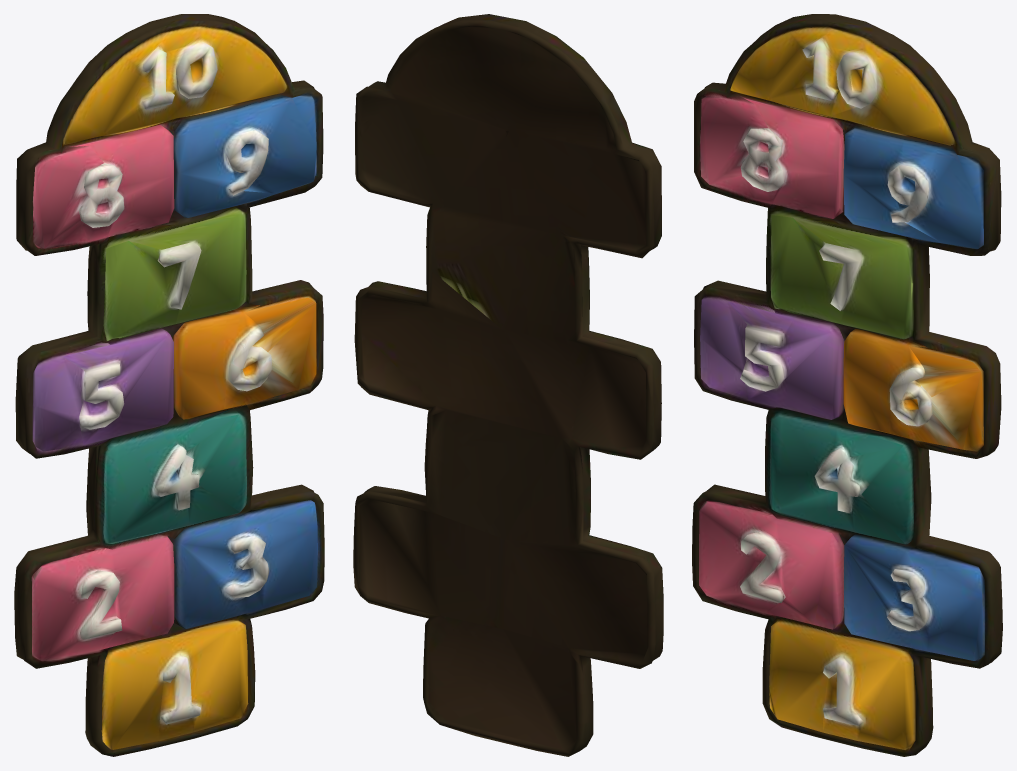
File: hopscotch.glb
The picture shows the model from 3 angles, left to right: view 1: azimuth 30°, elevation 25°; view 2: azimuth 150°, elevation 25°; view 3: azimuth 330°, elevation 25°; orthographic projection.
Parts seen in each view (by area): view 1: model; view 2: model; view 3: model.
Part boxes in pixels (x1=…): model: x1=14, y1=14, x2=324, y2=756; model: x1=353, y1=14, x2=663, y2=756; model: x1=692, y1=14, x2=1002, y2=756.
Bounding box in the file's own units: 0.8318 × 1.9 × 0.077.
1 material, 1 textured.
